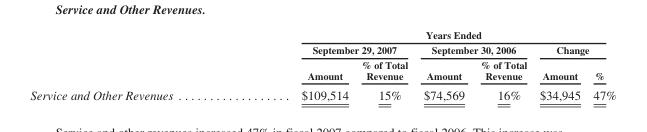table: (29, 28, 615, 101)
table column: (29, 28, 236, 101), (236, 28, 354, 101), (354, 28, 415, 101), (471, 28, 532, 101), (415, 28, 471, 101), (532, 28, 586, 101), (586, 28, 615, 101)
table column header: (29, 28, 615, 84)
table row: (29, 57, 615, 84), (29, 84, 615, 101), (29, 42, 615, 57), (29, 28, 615, 42)
table spanning cell: (236, 28, 615, 42), (236, 42, 415, 57), (415, 42, 532, 57), (532, 42, 615, 57)
